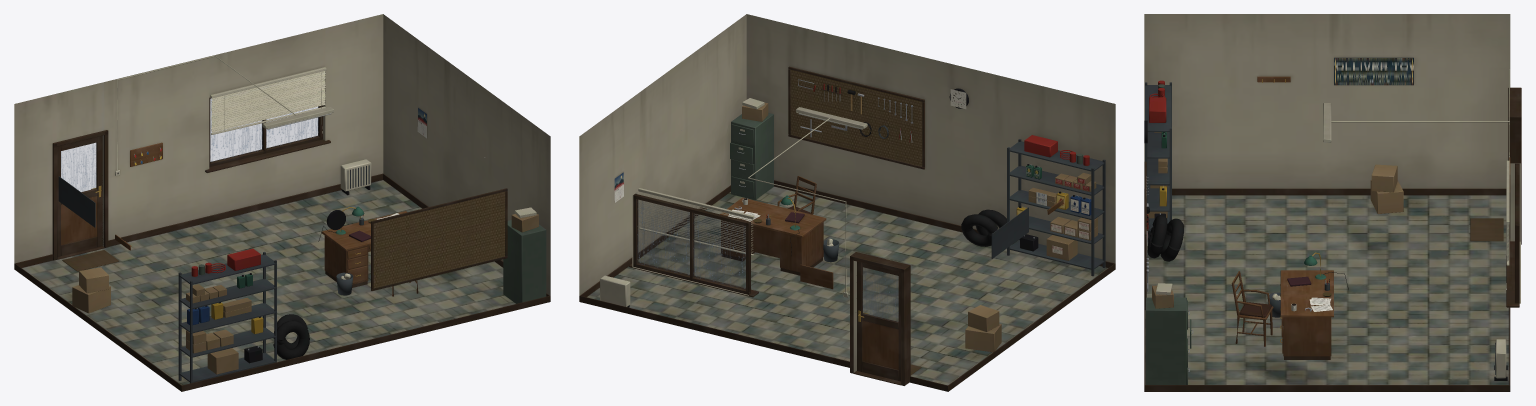
File: garage_office_set.glb
The picture shows the model from 3 angles, left to right: view 1: azimuth 30°, elevation 25°; view 2: azimuth 150°, elevation 25°; view 3: azimuth 270°, elevation 25°; orthographic projection. The views are drawn at different scales.
Visible parts, largest first — view 1: lod0, door_office; view 2: lod0, door_office; view 3: lod0.
Part boxes in pixels (x1,y1,x2,y2): lod0: [14, 14, 550, 391]; door_office: [57, 135, 102, 256]; lod0: [579, 14, 1115, 391]; door_office: [857, 261, 900, 381]; lod0: [1144, 14, 1521, 391].
Size of the model in its own units: 7 by 3 by 5.67.
Materials: 3 (2 with a texture image).
